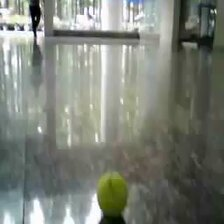tennis: (98, 173, 126, 213)
